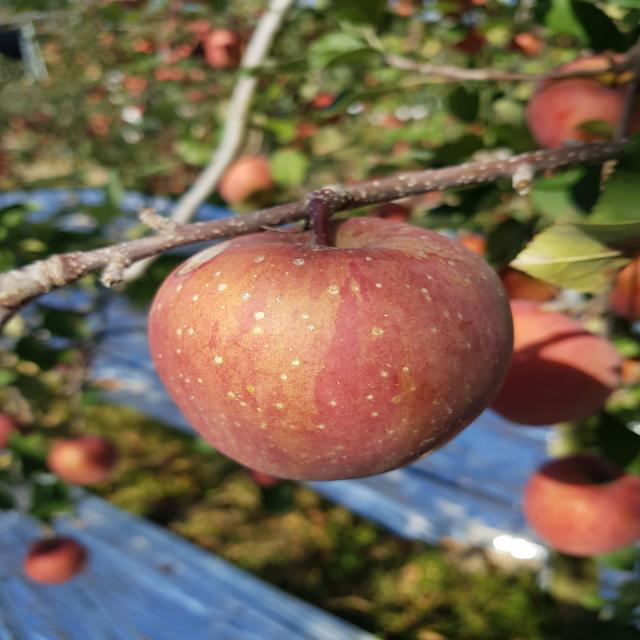fresh: (139, 210, 523, 490)
